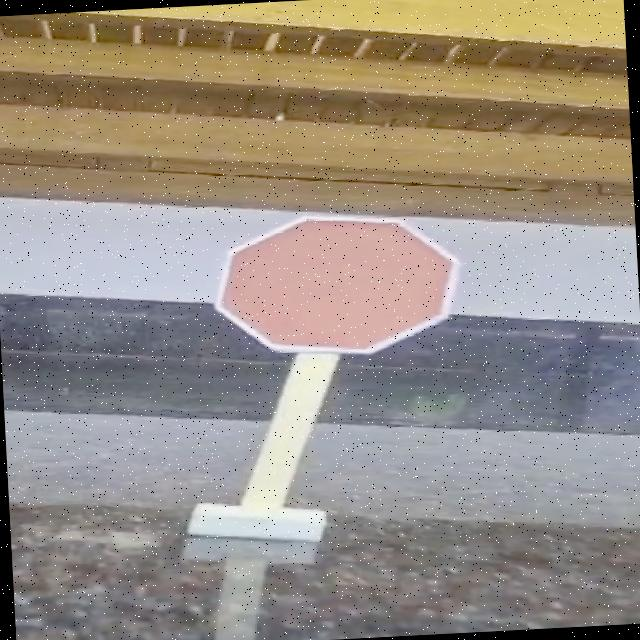Stop: (196, 195, 484, 375)
